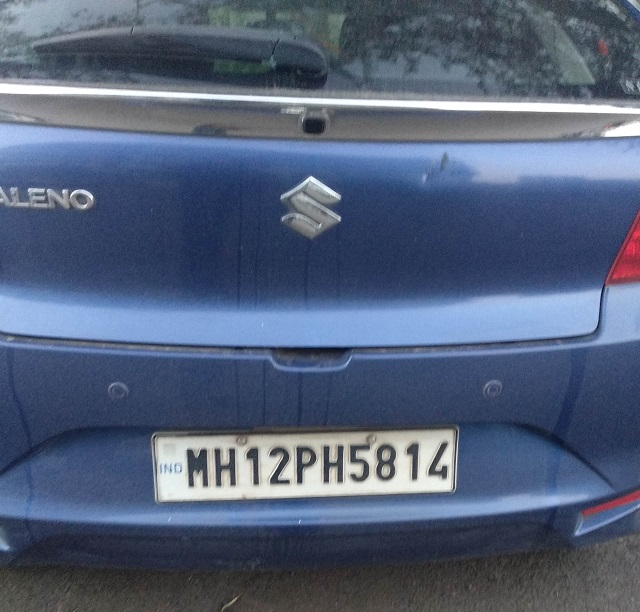licenseplate: (151, 426, 463, 502)
